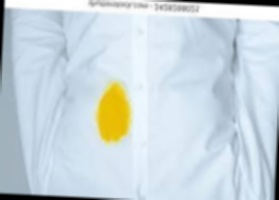mustard: (91, 79, 130, 143)
